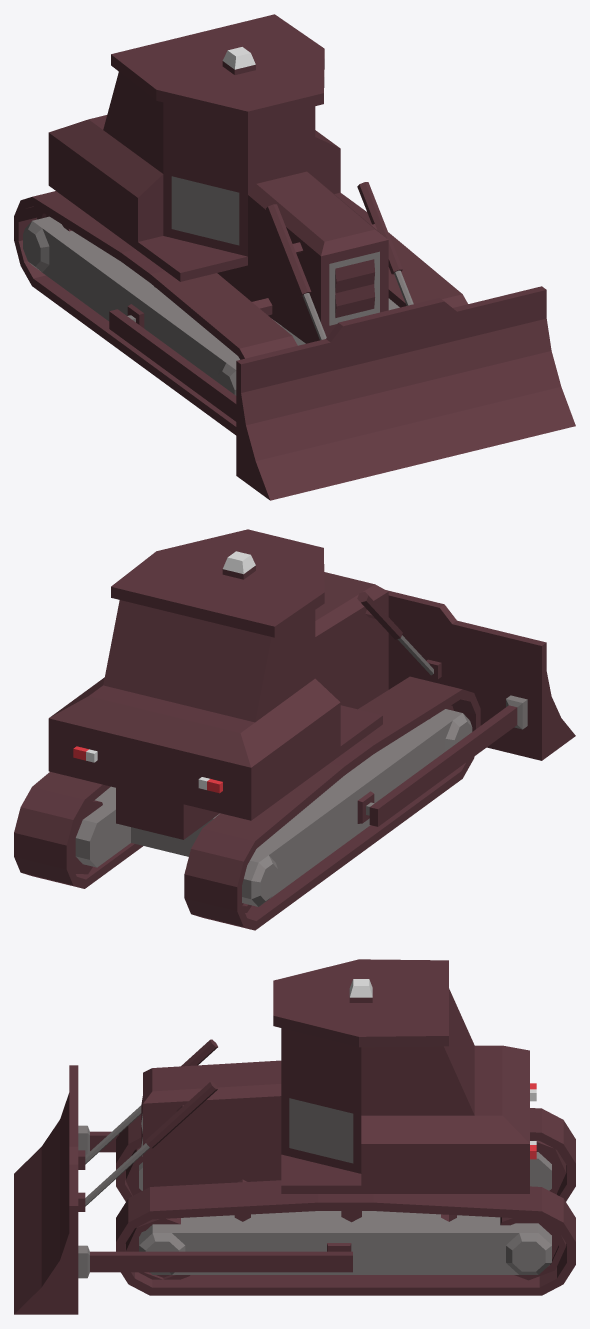
The model's file is vehicles-bulldozer.glb.
3 renders of one model, top to bottom at view 1: azimuth 30°, elevation 25°; view 2: azimuth 150°, elevation 25°; view 3: azimuth 270°, elevation 25°, orthographic. The views are drawn at different scales.
Visible parts, largest first — view 1: bulldozer-base, bulldozer-front, bulldozer-belt, bulldozer-chassis; view 2: bulldozer-base, bulldozer-belt, bulldozer-front, bulldozer-chassis, bulldozer-wheel_B; view 3: bulldozer-base, bulldozer-belt, bulldozer-front, bulldozer-chassis, bulldozer-wheel_B, bulldozer-wheel_F.
Part boxes in pixels (x1=…): bulldozer-base: x1=48, y1=14, x2=388, y2=343; bulldozer-front: x1=109, y1=182, x2=575, y2=500; bulldozer-belt: x1=14, y1=191, x2=467, y2=435; bulldozer-chassis: x1=23, y1=216, x2=399, y2=395; bulldozer-base: x1=48, y1=529, x2=388, y2=839; bulldozer-belt: x1=14, y1=676, x2=480, y2=930; bulldozer-front: x1=357, y1=590, x2=575, y2=826; bulldozer-chassis: x1=75, y1=709, x2=472, y2=906; bulldozer-wheel_B: x1=71, y1=800, x2=251, y2=912; bulldozer-base: x1=141, y1=959, x2=536, y2=1193; bulldozer-belt: x1=116, y1=1108, x2=575, y2=1295; bulldozer-front: x1=14, y1=1039, x2=352, y2=1314; bulldozer-chassis: x1=139, y1=1152, x2=551, y2=1274; bulldozer-wheel_B: x1=500, y1=1140, x2=566, y2=1280; bulldozer-wheel_F: x1=125, y1=1147, x2=190, y2=1279.
Bounding box in the file's own units: 2.9 × 2.51 × 4.88.
